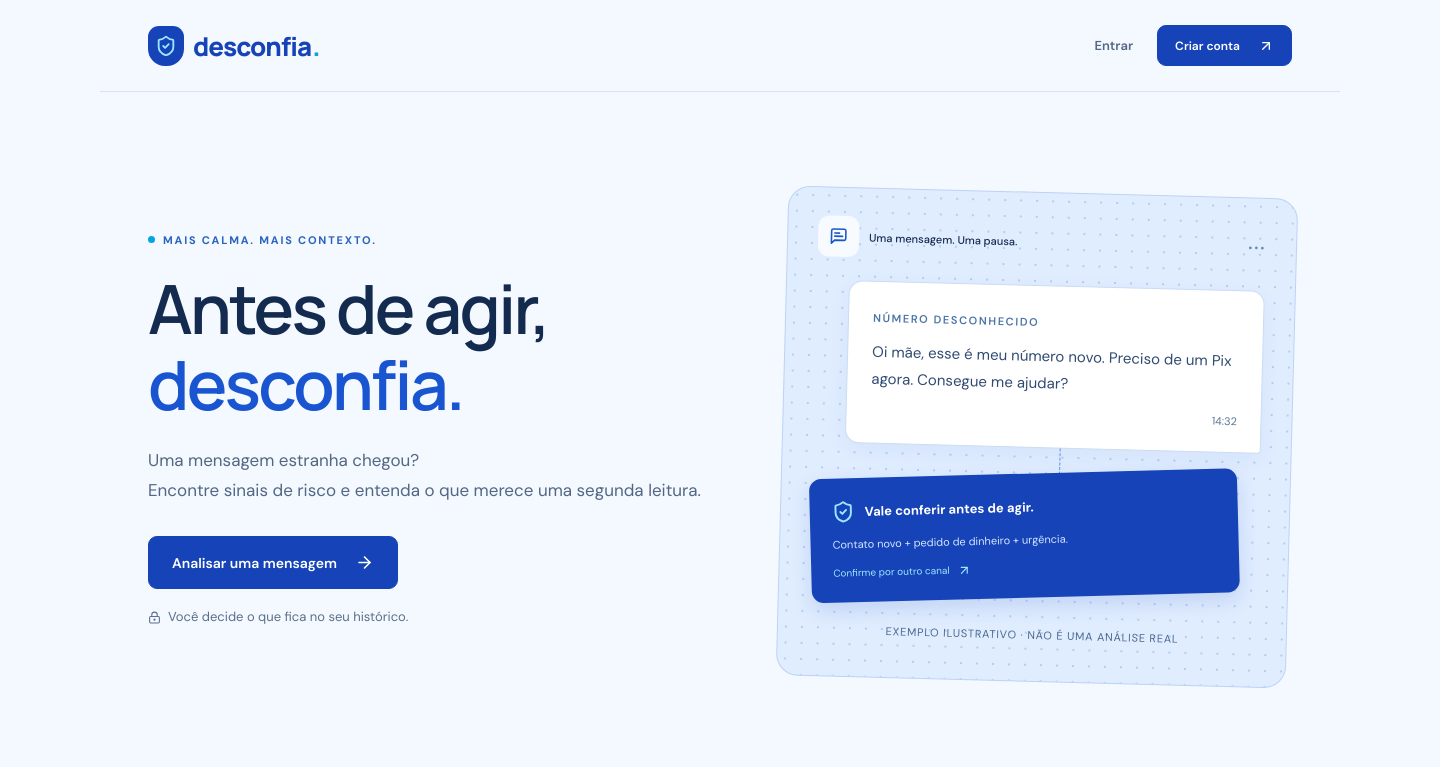
it: Fluxos do Desconfia › impede cadastro quando as senhas são diferentes
Click the button "Criar conta": click(1225, 46) [1157, 25, 1292, 66]
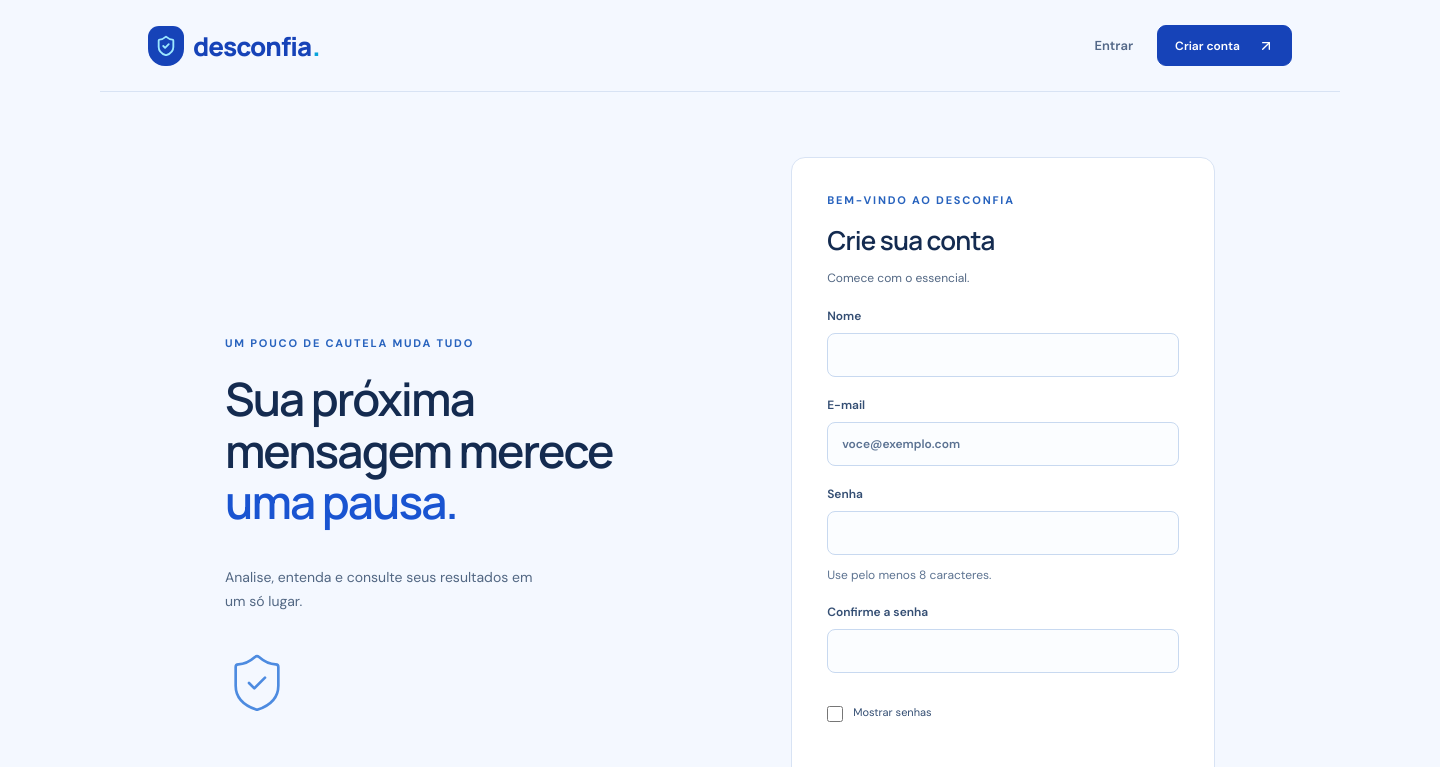
In the field labelled "Nome": (1003, 355) [827, 333, 1179, 377], type "Pessoa Teste"
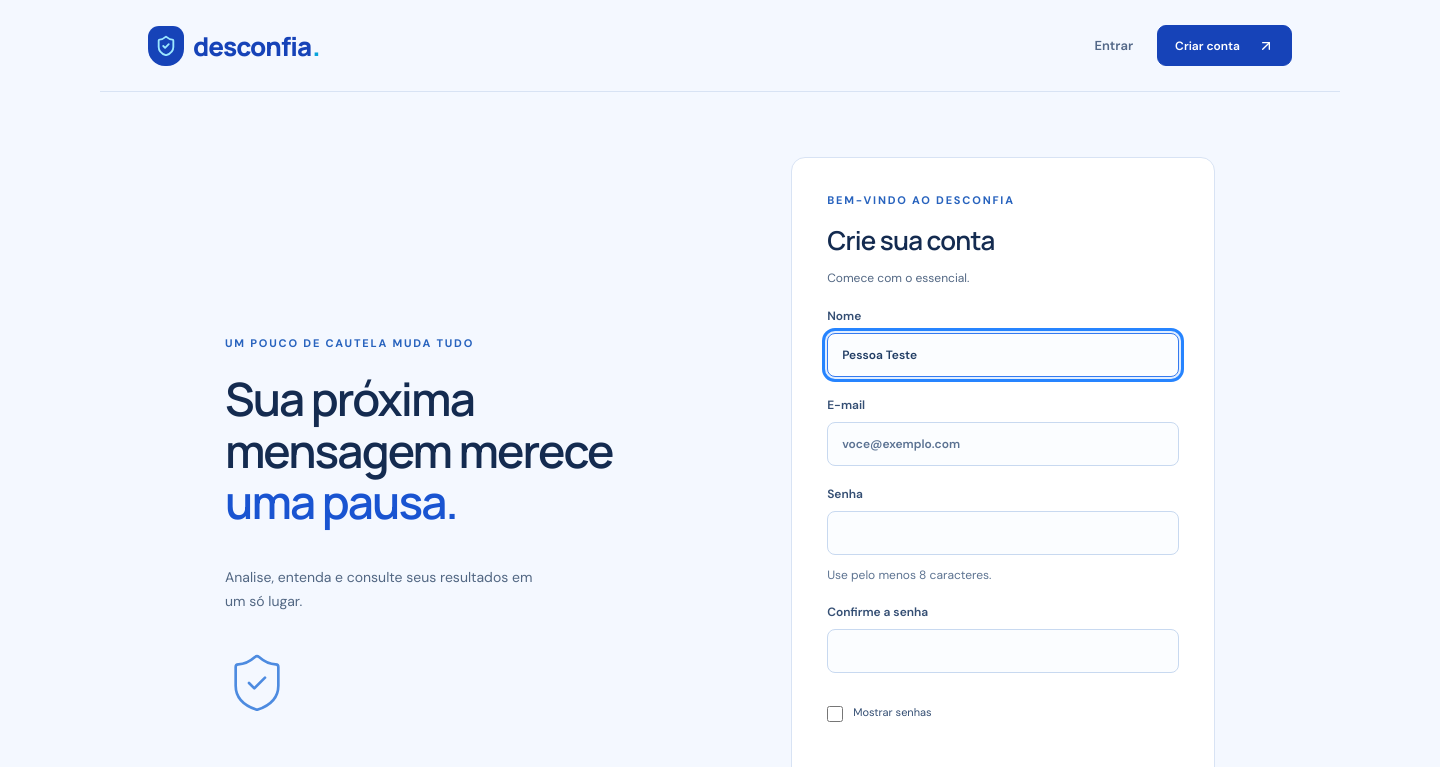
In the field labelled "E-mail": (1003, 444) [827, 422, 1179, 466], type "teste@example.com"
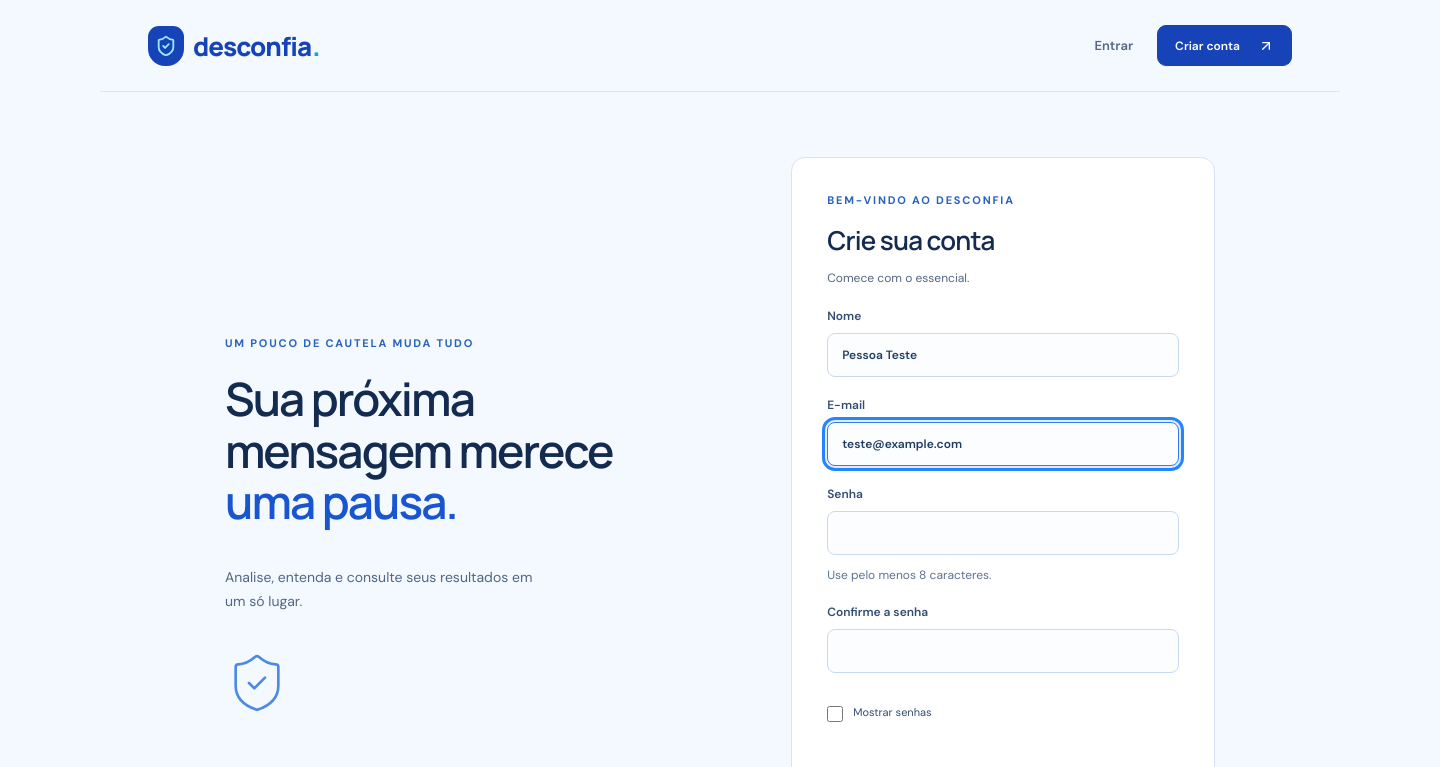
In the password field labelled "Senha": (1003, 533) [827, 511, 1179, 555], type "Teste123!"
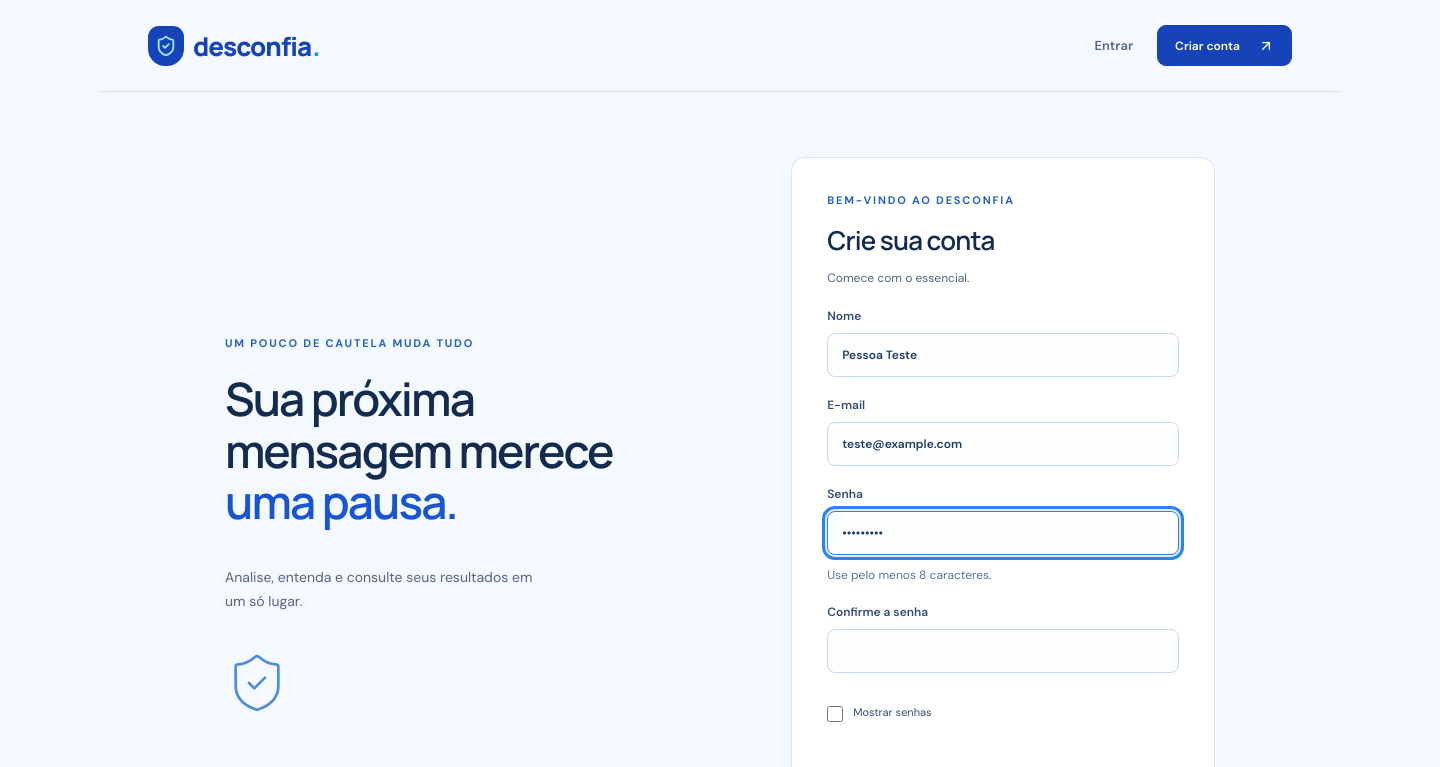
In the password field labelled "Confirme a senha": (1003, 651) [827, 629, 1179, 673], type "Diferente123!"
(page scrolled)
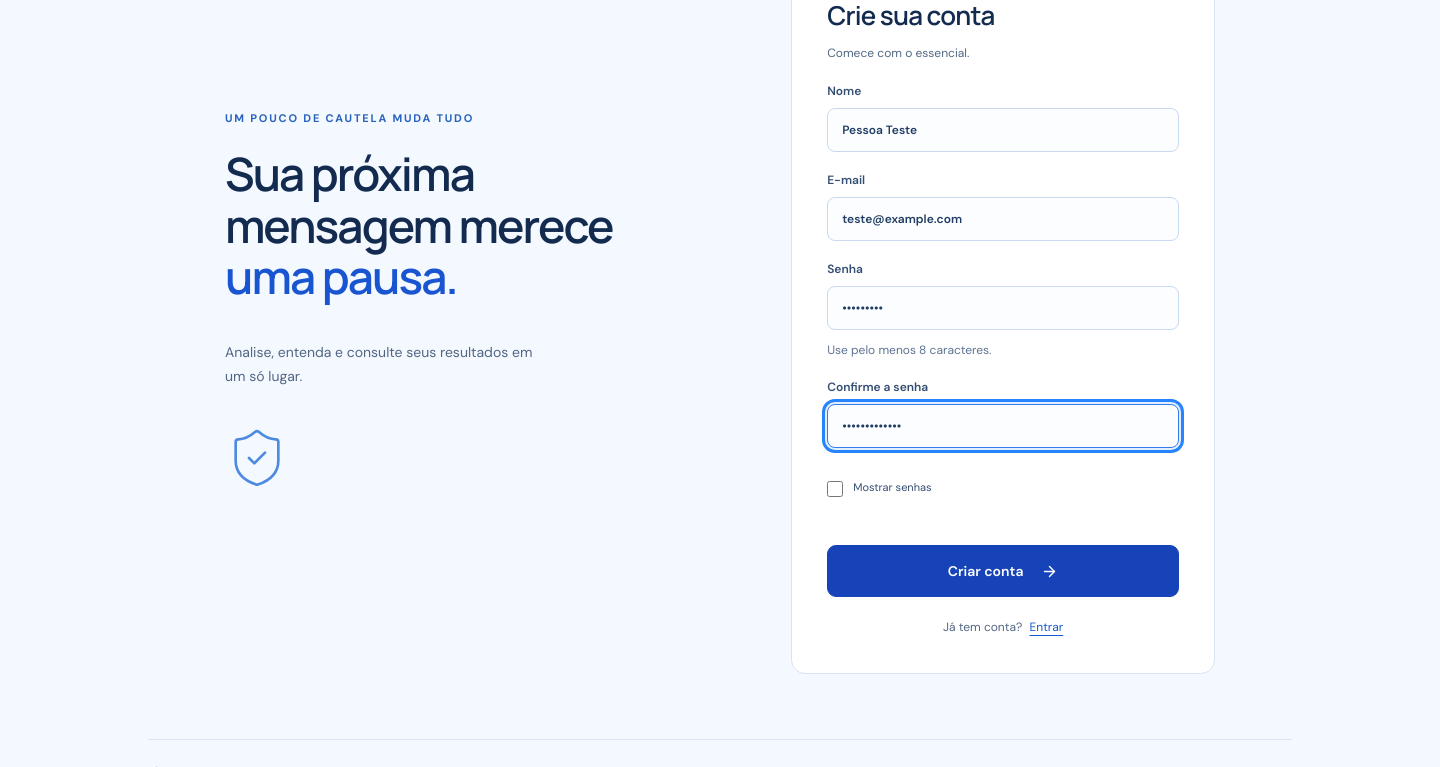
Click the button "Criar conta": click(1003, 571) [827, 545, 1179, 597]
(page scrolled)
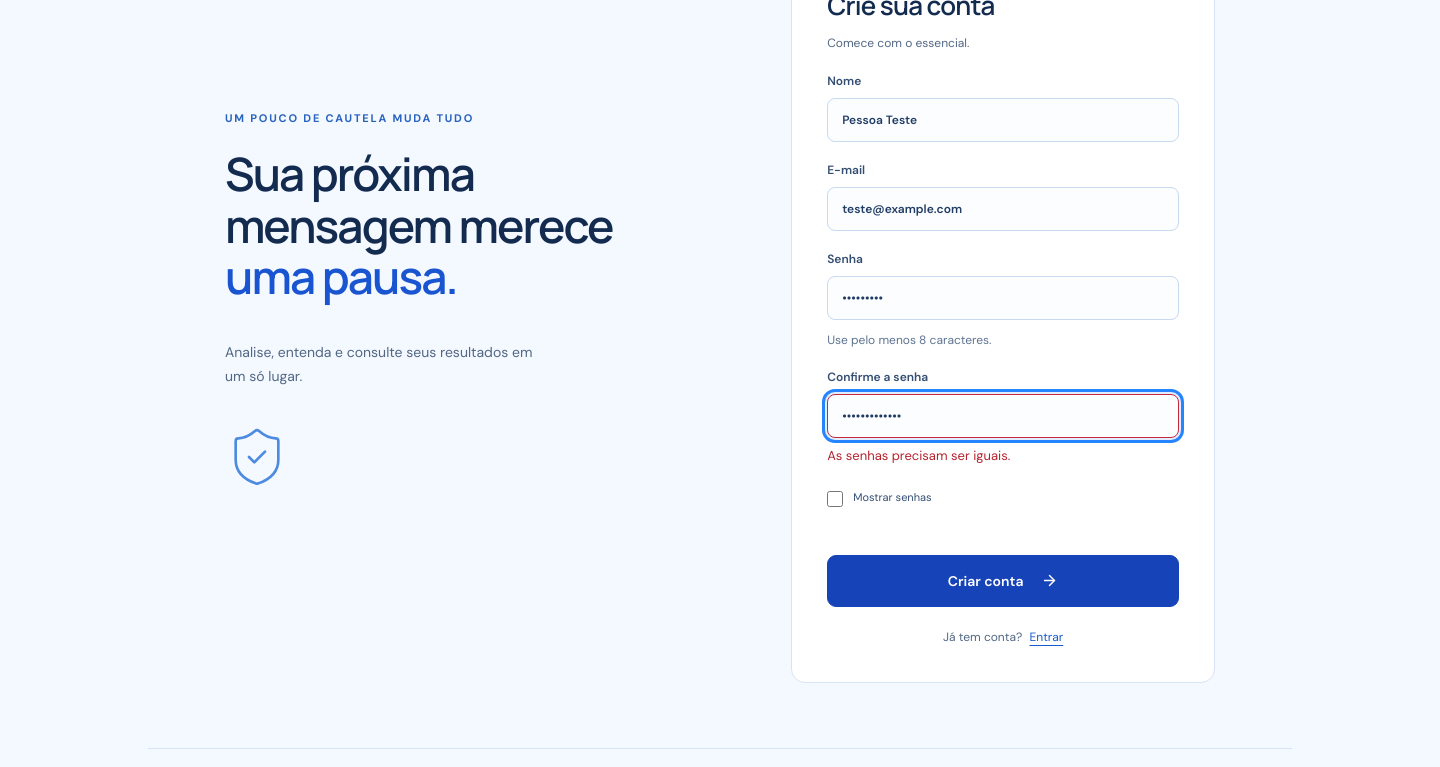
Result: the message shows "As senhas precisam ser iguais" at [827, 447, 1010, 464]
